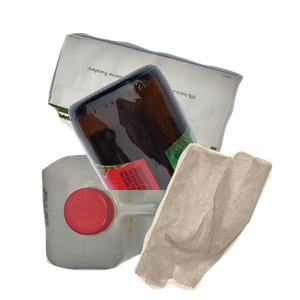glass: (66, 61, 300, 241)
paper: (45, 30, 281, 195)
plastic: (39, 149, 203, 300)
trash: (132, 140, 300, 300)
